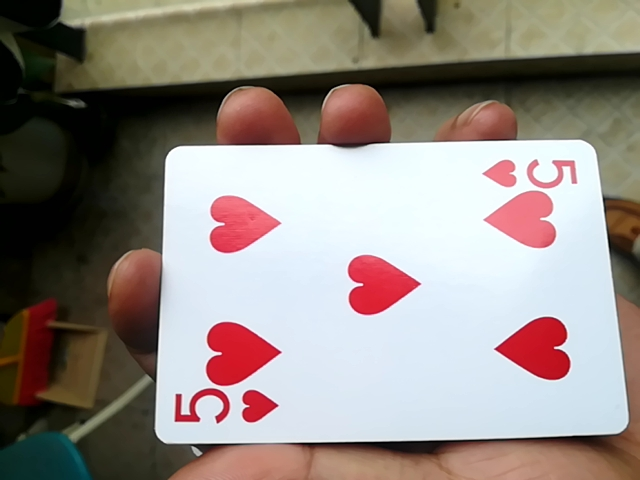hx 5: (143, 134, 617, 451)
